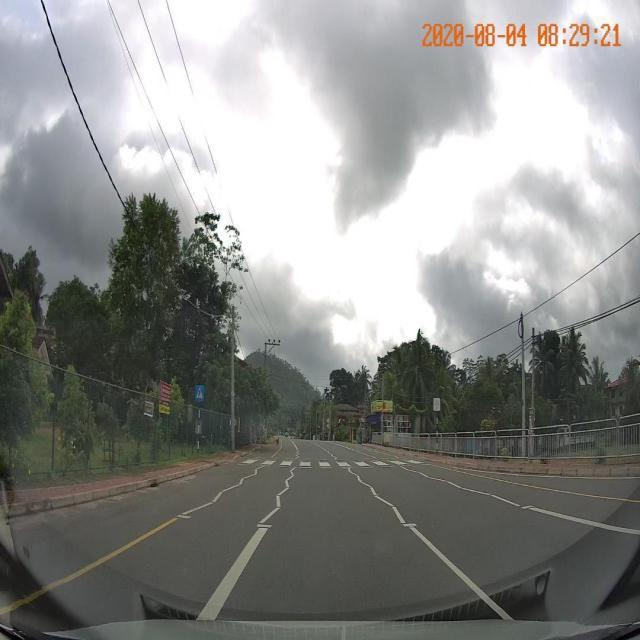Liniya 1: (3, 515, 181, 615), (407, 525, 516, 622), (192, 527, 270, 622), (526, 506, 640, 537)
Perehod: (240, 458, 424, 467)
